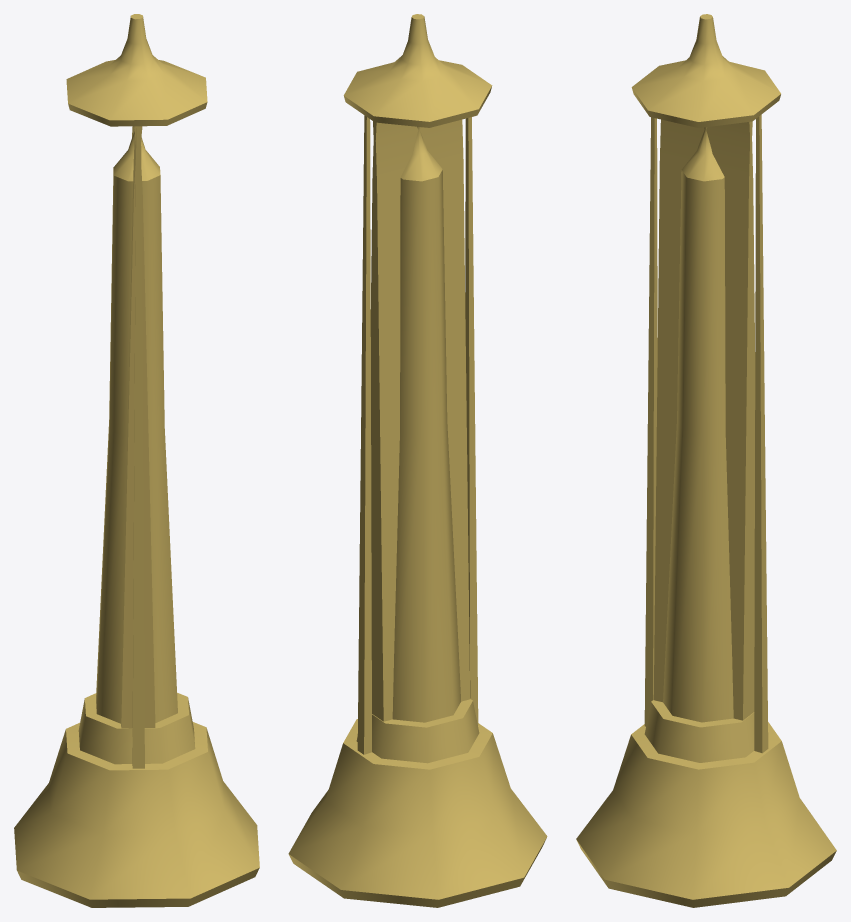
Rendered from Standing Lamp.fbx.
The picture shows the model from 3 angles, left to right: view 1: azimuth 30°, elevation 25°; view 2: azimuth 150°, elevation 25°; view 3: azimuth 270°, elevation 25°; orthographic projection.
Visible parts, largest first — view 1: Standing_Lamp_01; view 2: Standing_Lamp_01; view 3: Standing_Lamp_01.
Boxes of the visible parts, bbox=[...] form: Standing_Lamp_01: bbox=[14, 14, 259, 907]; Standing_Lamp_01: bbox=[288, 14, 547, 907]; Standing_Lamp_01: bbox=[576, 14, 836, 907].
Bounding box in the file's own units: 44.66 × 158 × 44.66.
